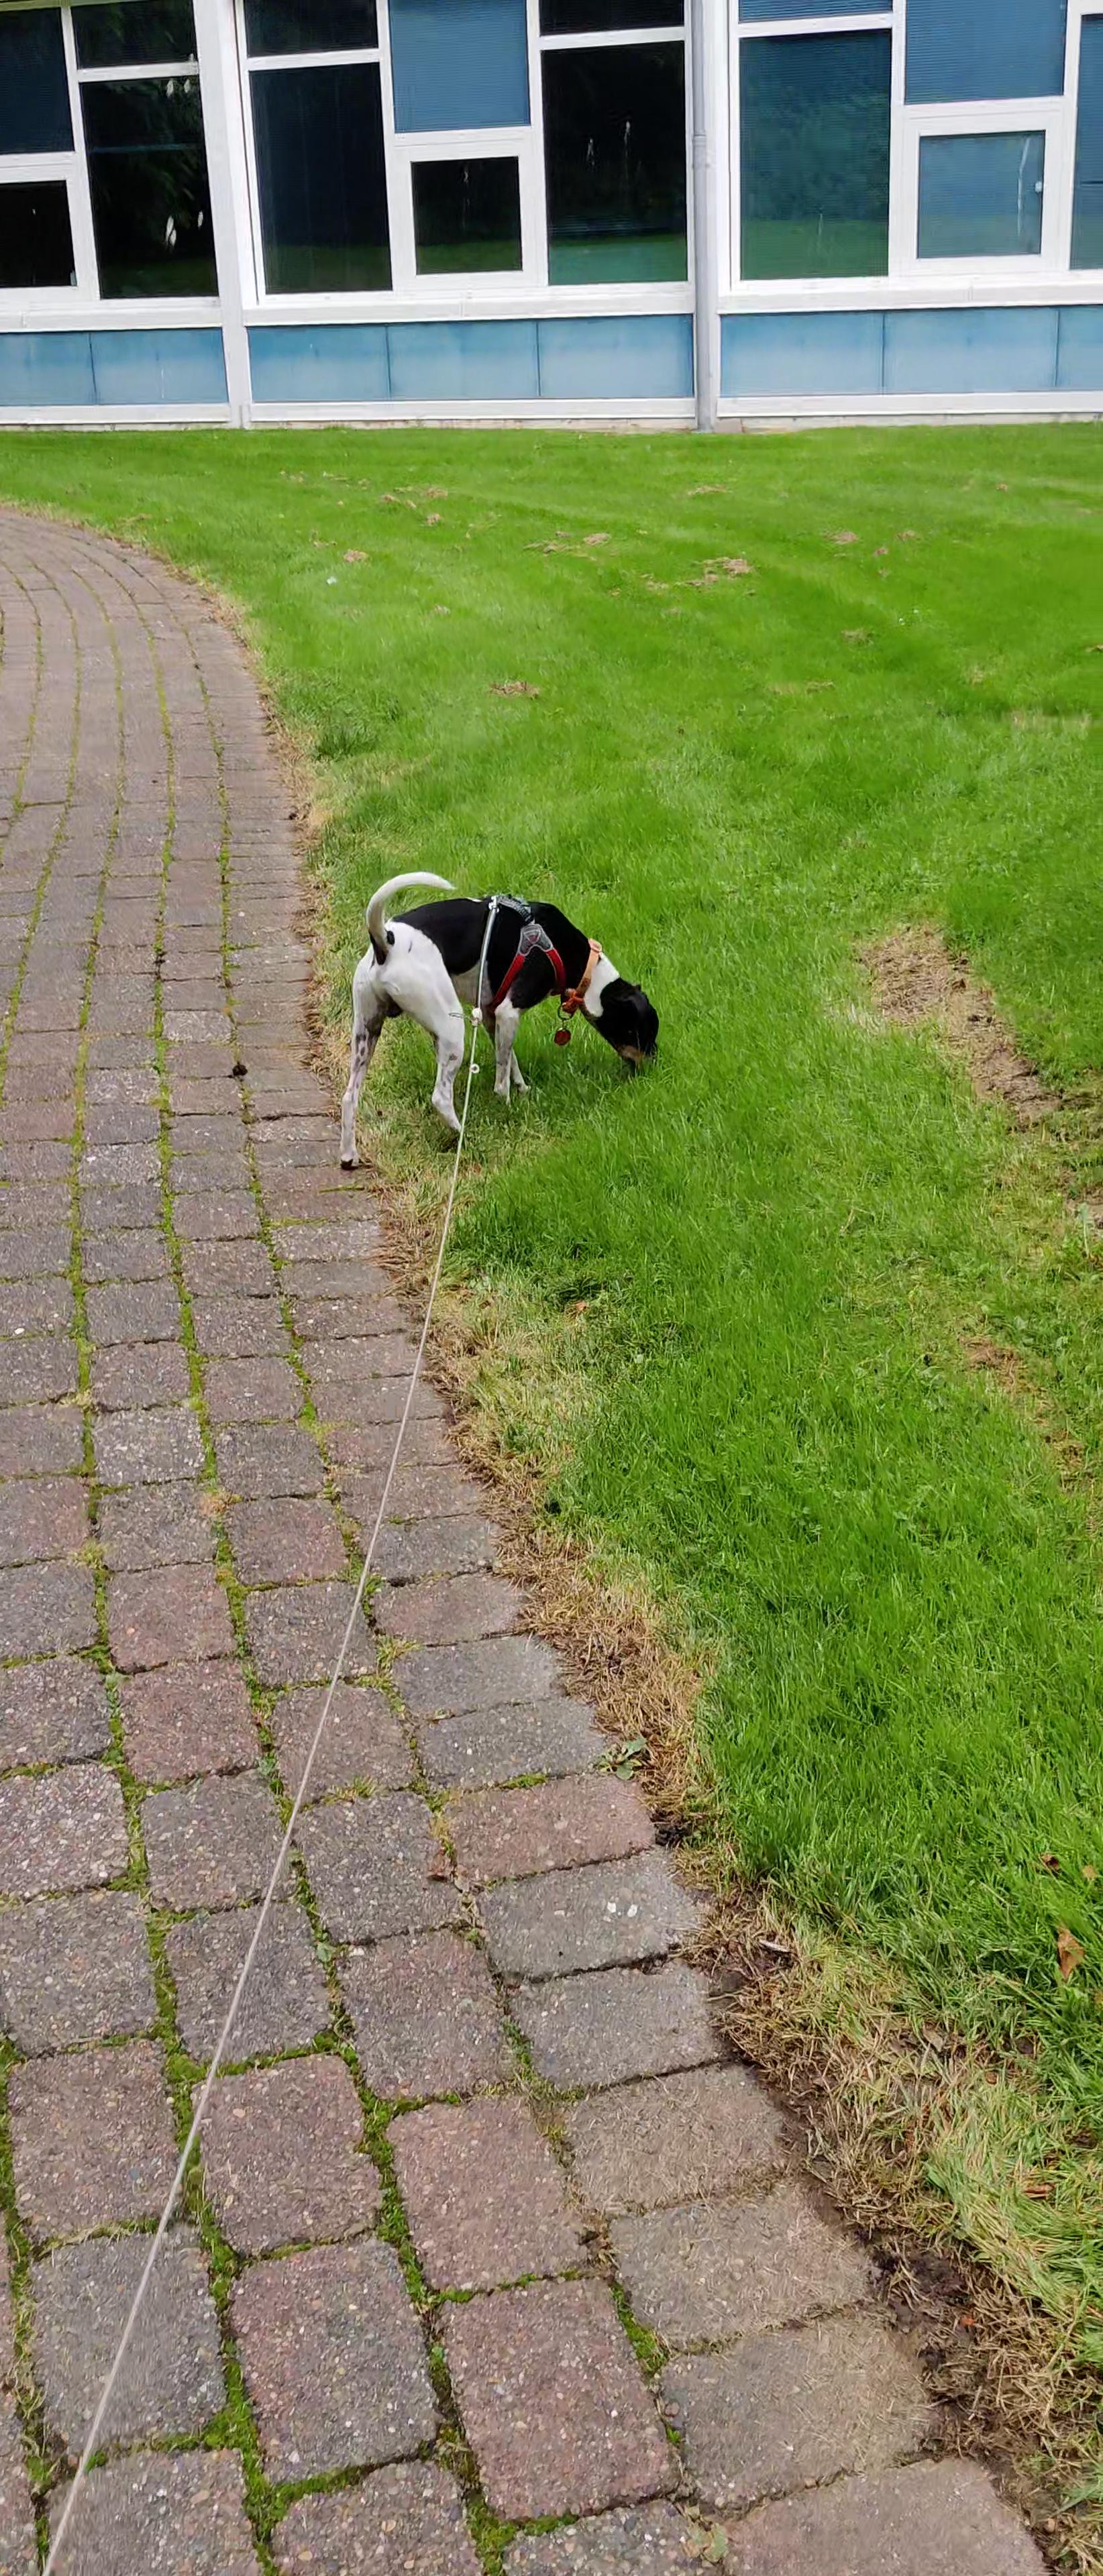Dog: (321, 843, 681, 1175)
